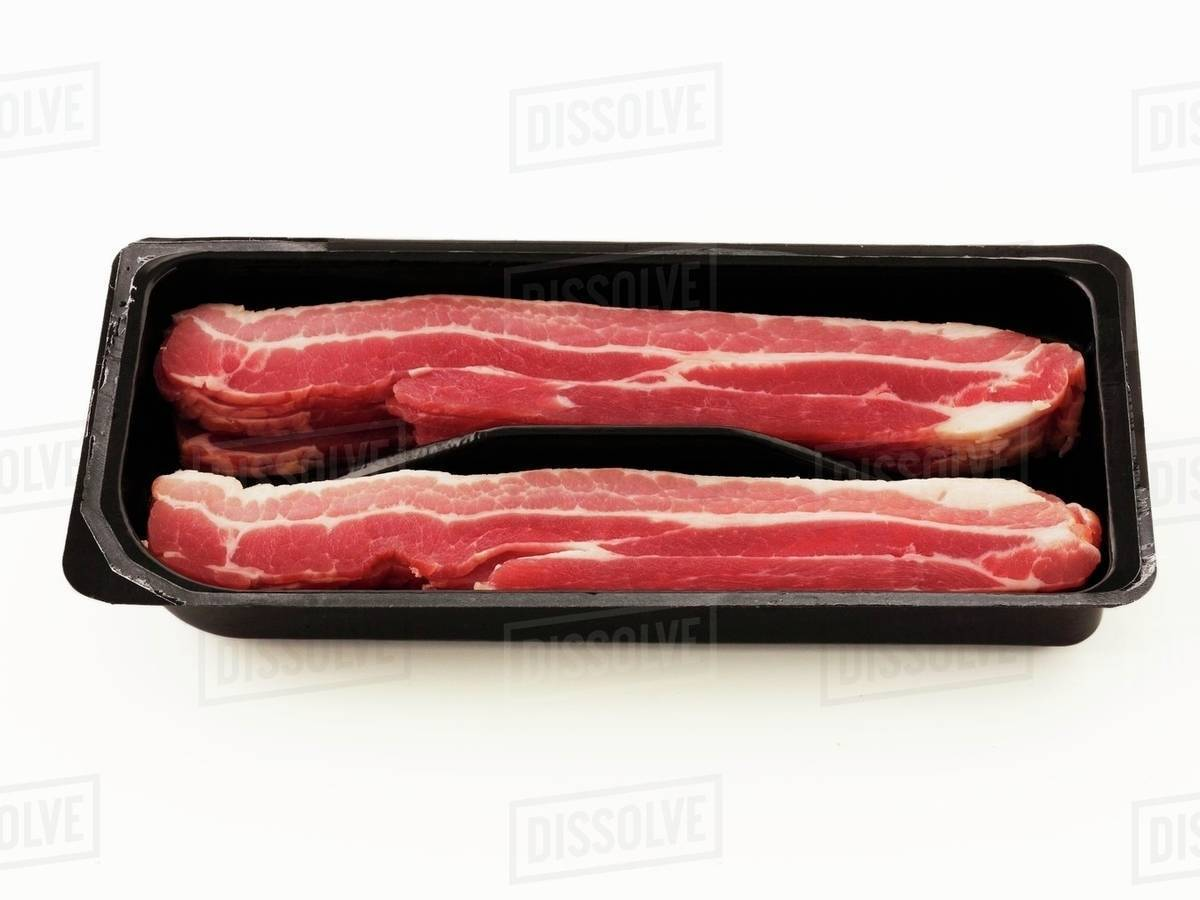bacon: (106, 269, 1048, 615)
